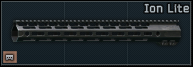AR-15 Lone Star Armory Ion Lite handguard: (0, 0, 193, 67)
